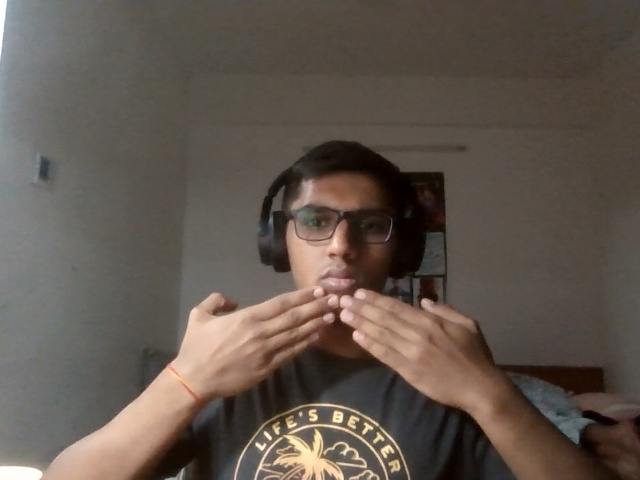thankyou: (174, 276, 529, 417)
